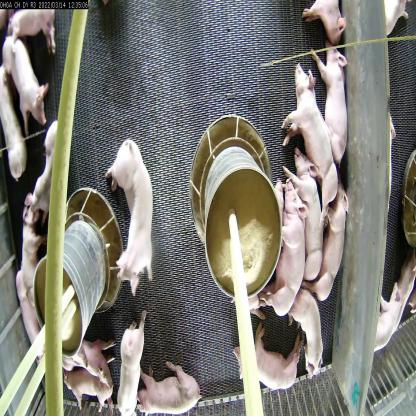Pig: (103, 128, 158, 300), (268, 180, 312, 329), (281, 67, 331, 194), (231, 317, 301, 403), (12, 202, 53, 334), (288, 152, 326, 285), (281, 274, 326, 374), (314, 38, 350, 160), (124, 360, 198, 416), (320, 202, 355, 313), (6, 28, 46, 121), (116, 313, 150, 416), (38, 106, 70, 214), (56, 356, 114, 411)
